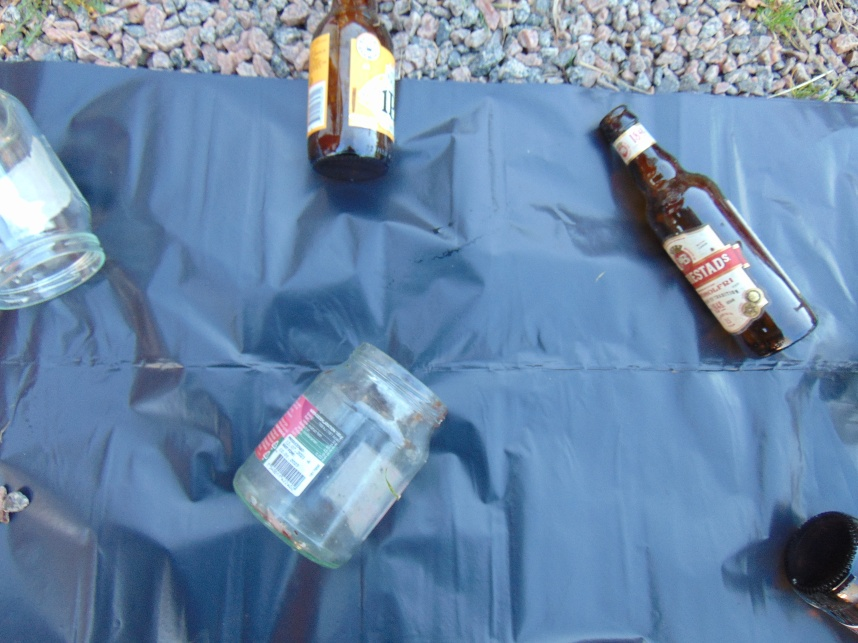glass_bottle: (597, 104, 818, 361), (231, 340, 447, 569), (1, 88, 105, 311), (309, 1, 394, 184), (788, 510, 858, 635)
